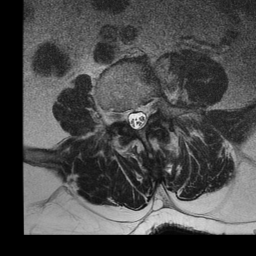CCS_normal: (133, 99, 140, 135)
LFS_normal: (147, 92, 156, 121)
LLS_normal: (139, 96, 147, 129)
RFS_normal: (117, 100, 125, 131)
RLS_normal: (125, 97, 133, 132)
